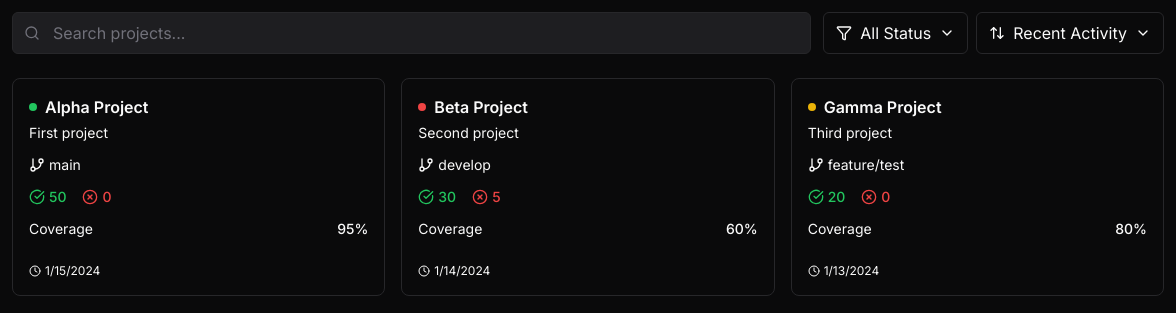
ProjectGrid › shows no results message when search matches nothing
Type "nonexistent" into the field with placeholder "Search projects..." at (412, 33), box [12,12,811,54]
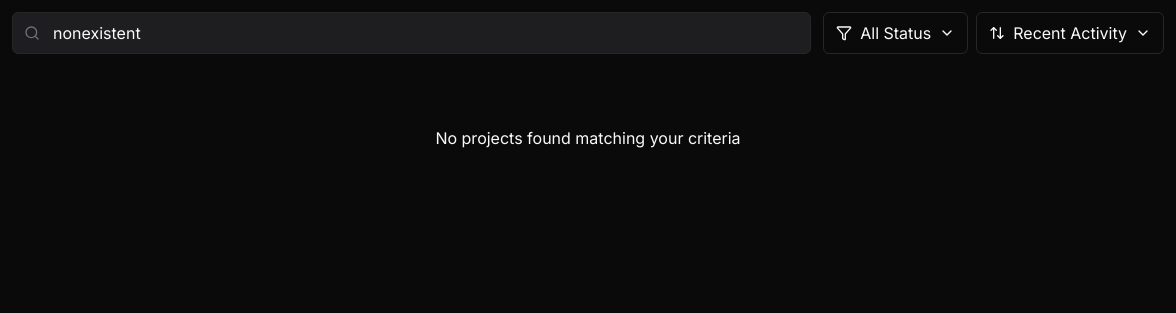
Expected: the text "No projects found matching your criteria" is shown, [435,128,740,148]
